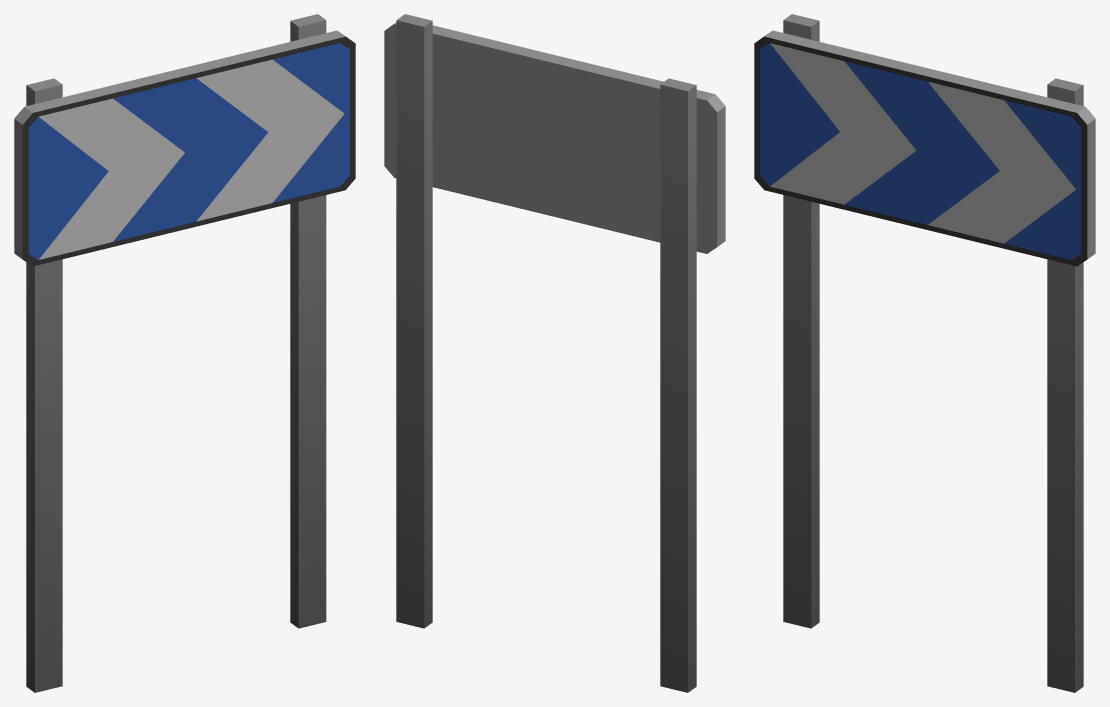
Rendered from sign.glb.
3 renders of one model, left to right at view 1: azimuth 30°, elevation 25°; view 2: azimuth 150°, elevation 25°; view 3: azimuth 330°, elevation 25°, orthographic.
Parts seen in each view (by area): view 1: huitugou_2168_12.089; view 2: huitugou_2168_12.089; view 3: huitugou_2168_12.089.
Part boxes in pixels (left/top/right/bottom): huitugou_2168_12.089: left=14, top=14, right=355, bottom=692; huitugou_2168_12.089: left=384, top=14, right=725, bottom=692; huitugou_2168_12.089: left=754, top=14, right=1095, bottom=692.
Size of the model in its own units: 0.7687 by 1.33 by 0.068.
1 material, 1 textured.
